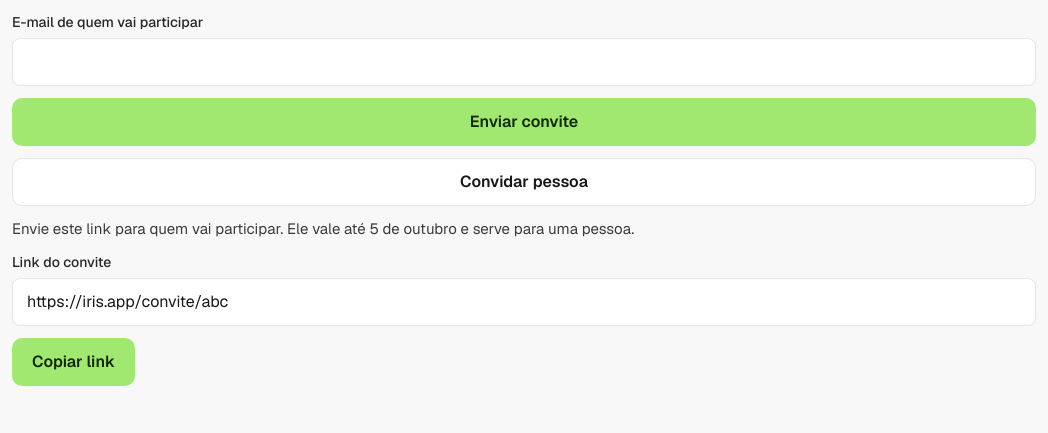
Test: mostra o link, copia e avisa; sem "Compartilhar" quando o navegador não tem
Check: the field labelled "Link do convite" holds "https://iris.app/convite/abc", box [12,278,1036,326]
Check: the text "Envie este link para quem vai participar. Ele vale até 5 de outubro e serve para uma pessoa." is shown, box [12,219,634,238]
Click the button "Copiar link".
click(74, 362)  # box [12,338,135,386]
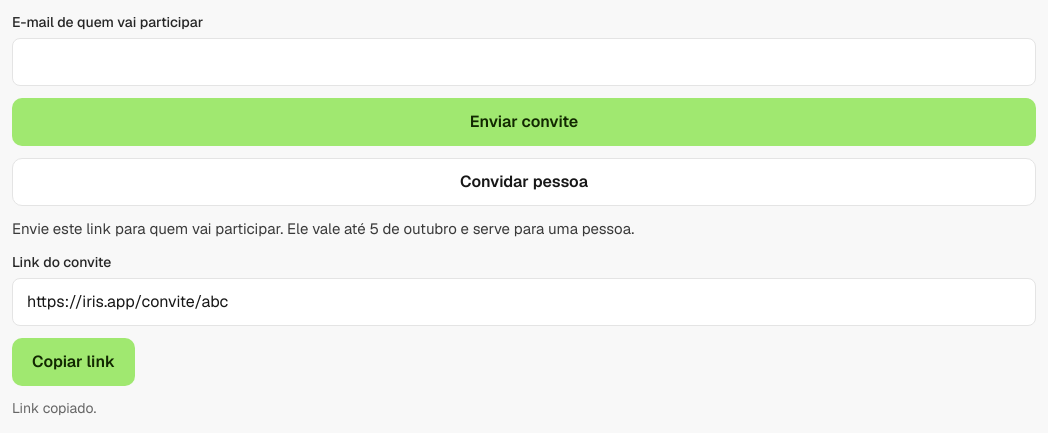
Check: the message reads "Link copiado.", box [12,399,96,417]
